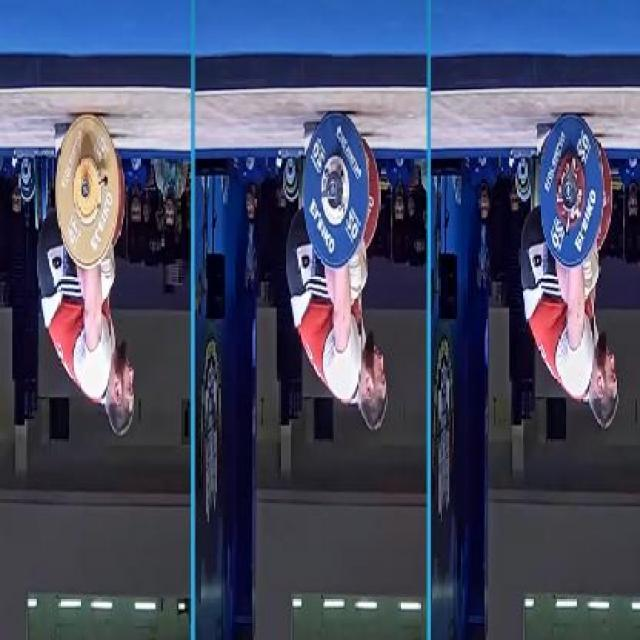Barbell: (552, 140, 590, 242), (315, 150, 353, 241), (68, 148, 102, 234)
